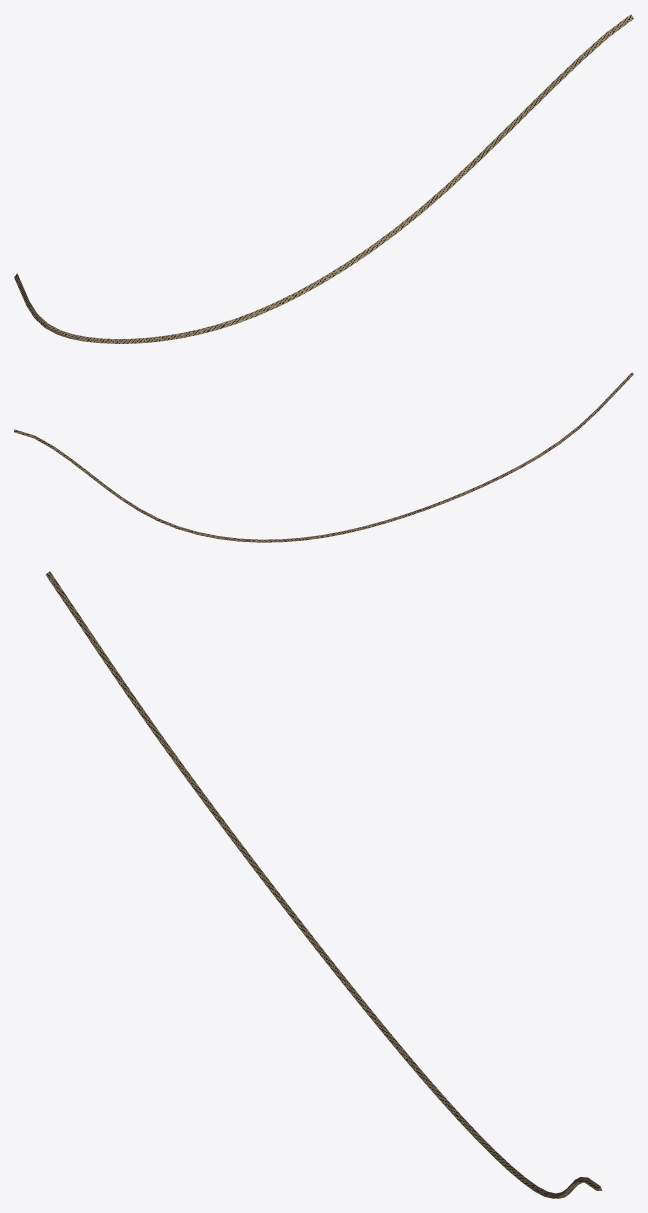
File: JAM_Ropes_02.fbx
3 views of the same model, one above another, from view 1: azimuth 30°, elevation 25°; view 2: azimuth 150°, elevation 25°; view 3: azimuth 270°, elevation 25° (orthographic). The views are drawn at different scales.
Parts seen in each view (by area): view 1: Rope_02; view 2: Rope_02; view 3: Rope_02.
Boxes of the visible parts, x1,y1,x2,y2 form: Rope_02: (14,14,633,343); Rope_02: (14,372,633,542); Rope_02: (45,571,602,1198).
Size of the model in its own units: 15.73 by 4.85 by 7.86.
